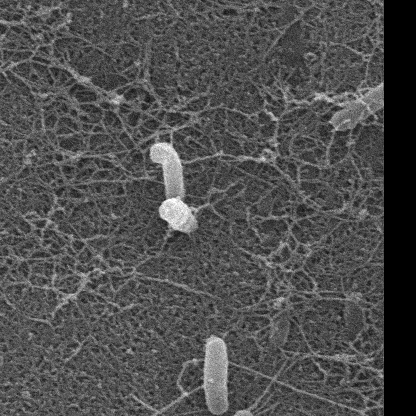cell2cell: (137, 355, 201, 416), (128, 385, 203, 416)
cell2surface: (231, 363, 384, 416), (251, 356, 297, 410), (0, 46, 56, 74), (180, 146, 233, 167)
curved: (149, 144, 187, 203)
regular: (333, 90, 384, 131), (205, 337, 228, 415), (162, 201, 197, 233), (206, 410, 256, 416)
